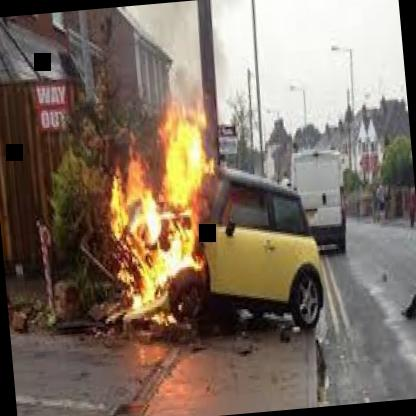fire: (110, 100, 222, 332)
